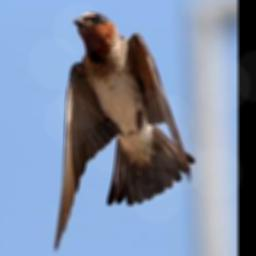Swallow: (55, 10, 196, 252)
